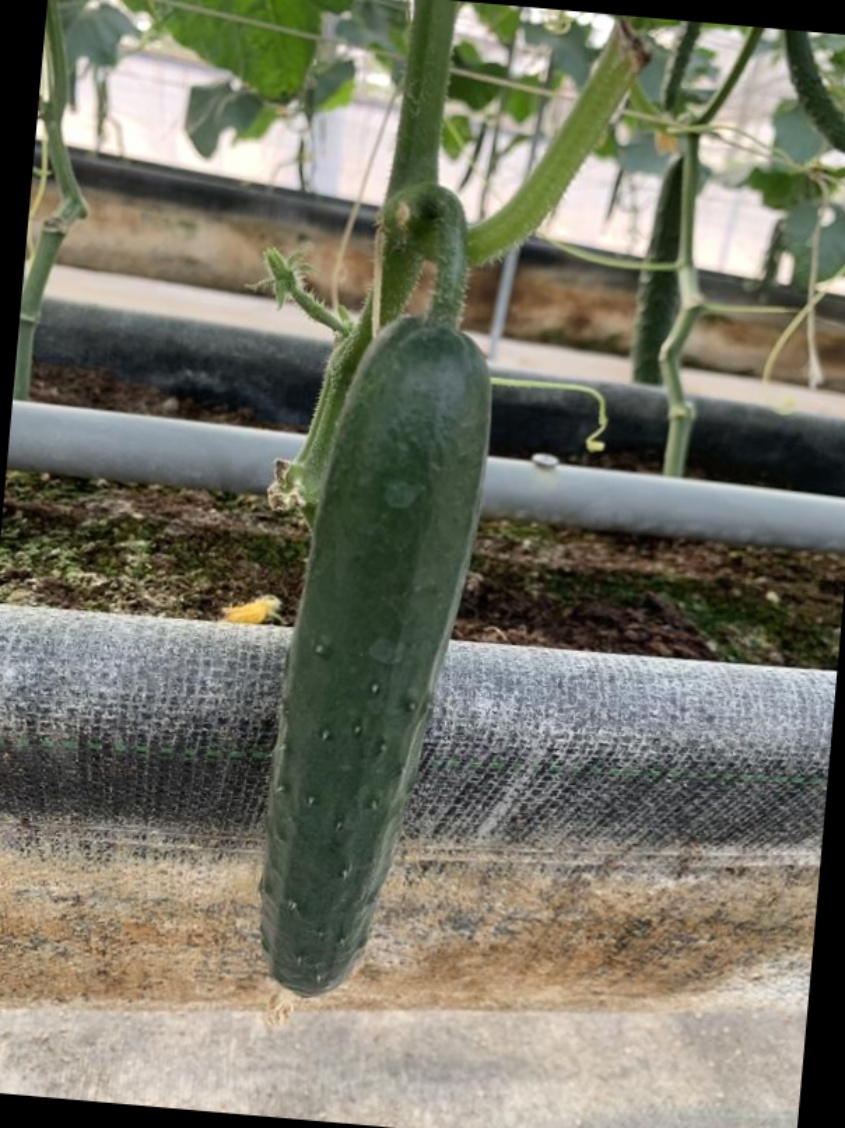mature: (243, 320, 494, 1016)
